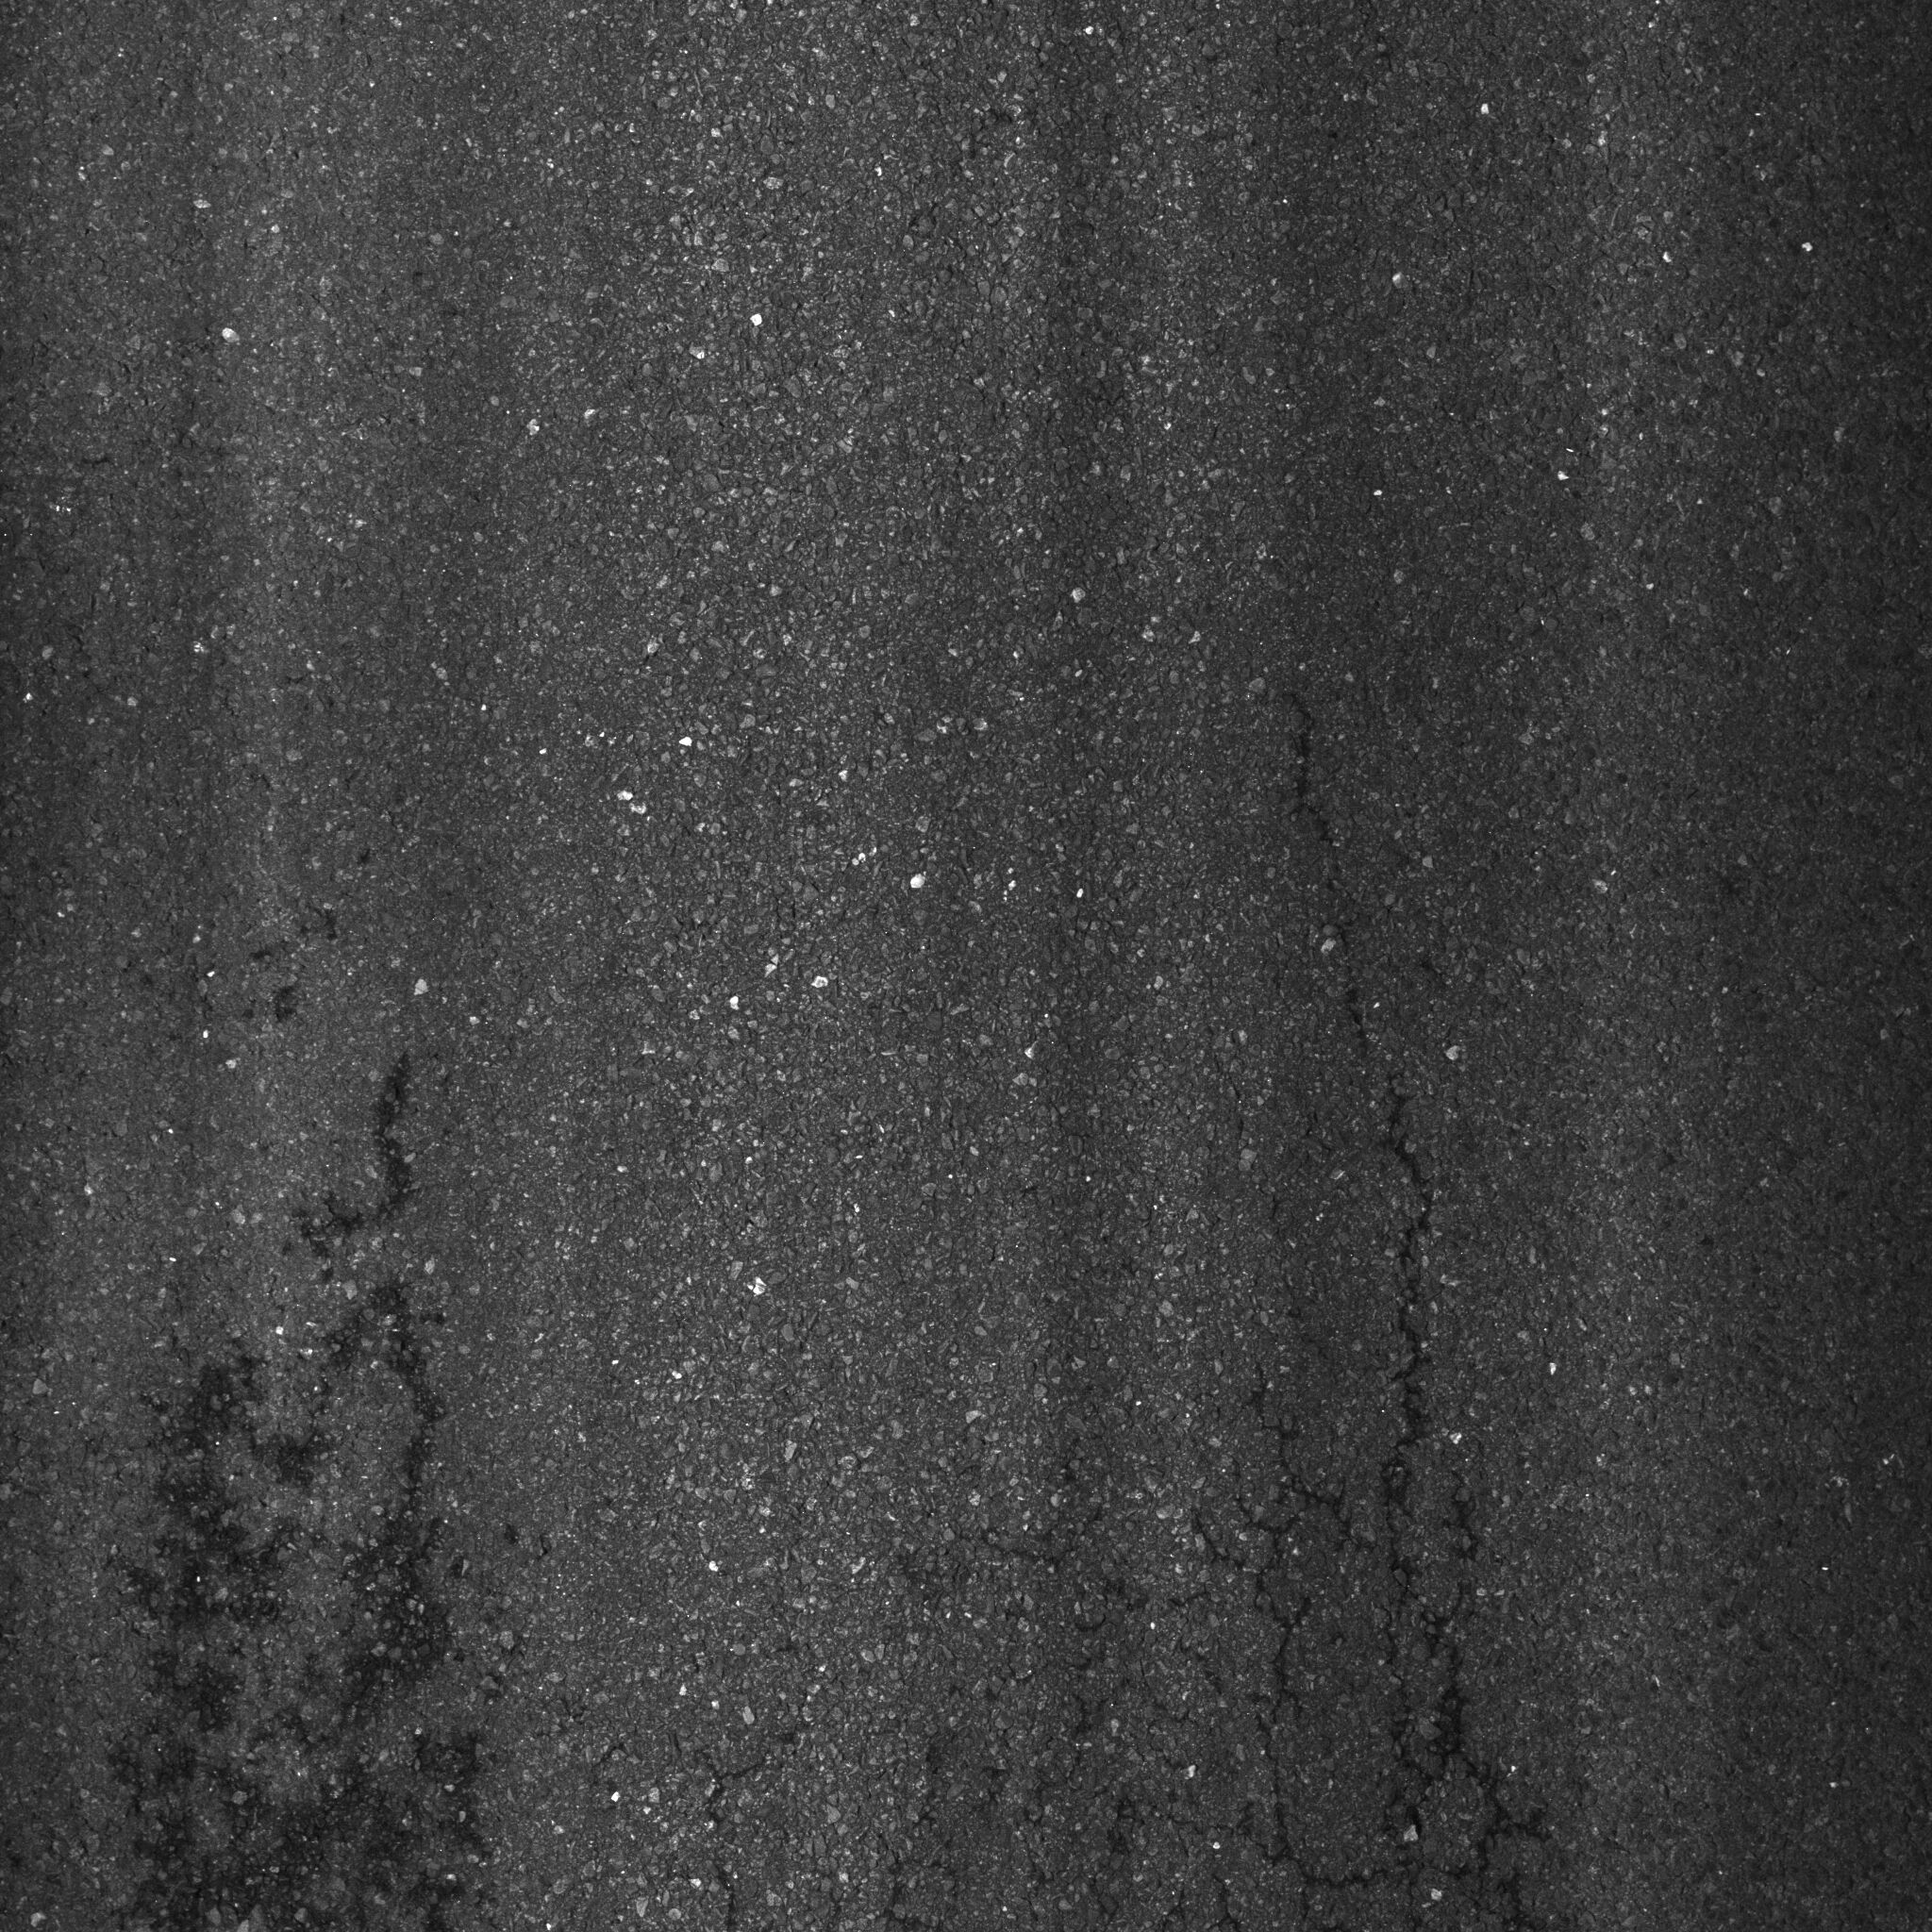alligator: (1069, 678, 1667, 1932), (37, 1062, 605, 1932)
